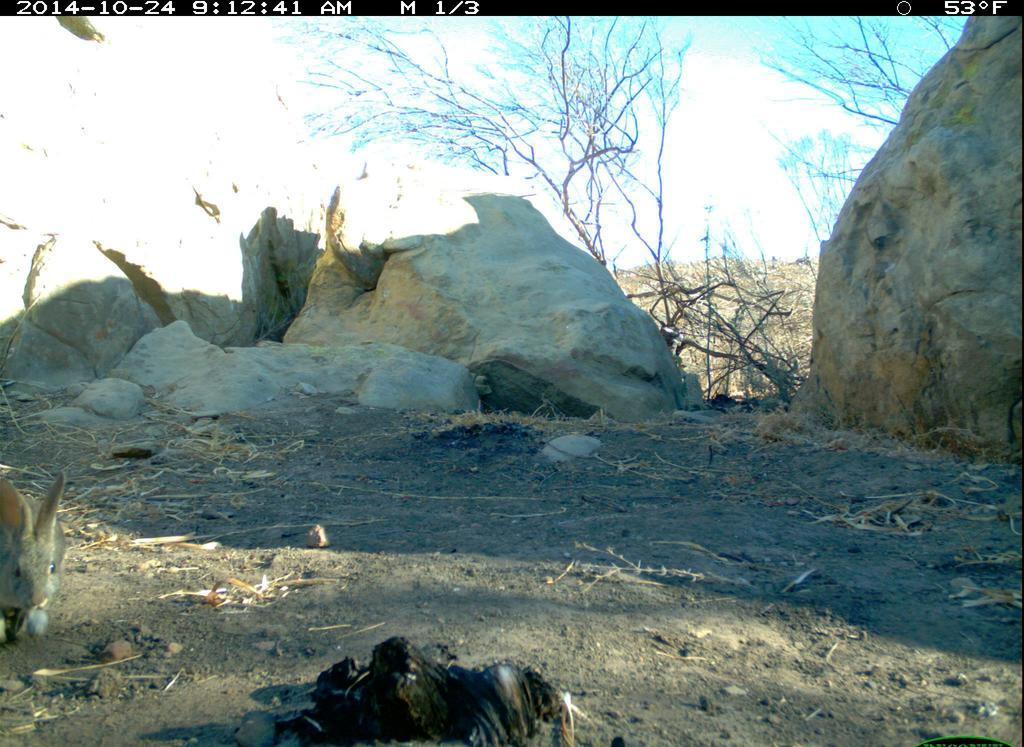rabbit: (3, 465, 77, 647)
